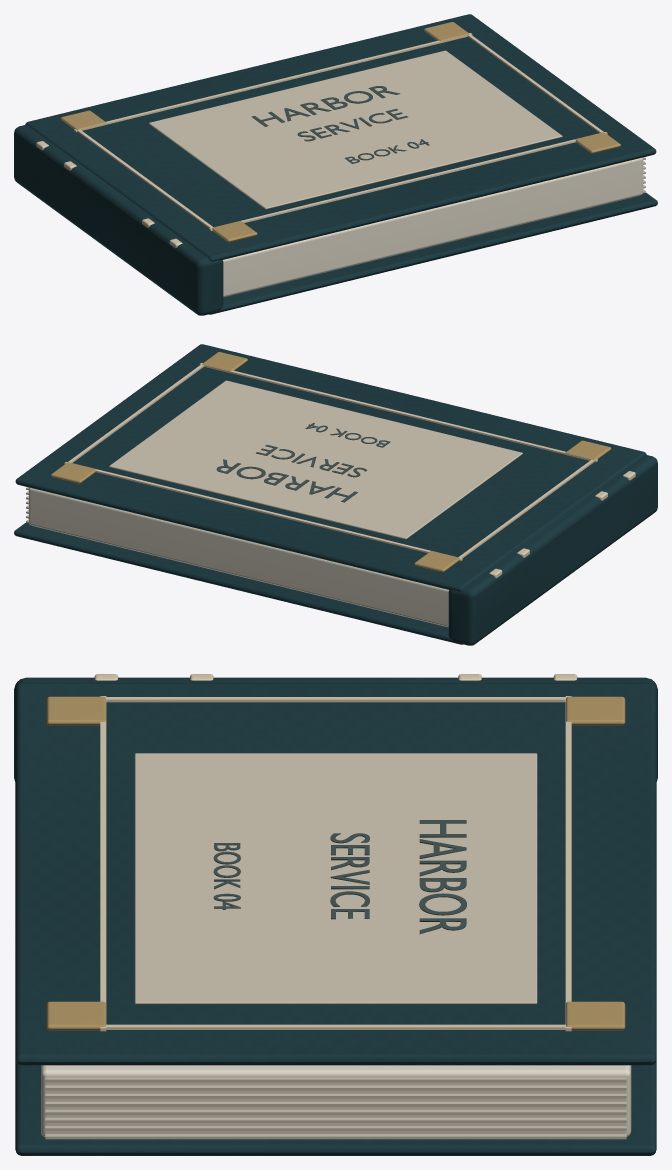
The model's file is A156_harbor_service_manual.glb.
The picture shows the model from 3 angles, top to bottom: view 1: azimuth 30°, elevation 25°; view 2: azimuth 150°, elevation 25°; view 3: azimuth 270°, elevation 25°; orthographic projection. The views are drawn at different scales.
Parts seen in each view (by area): view 1: TopCoverPivot.001 SL manual weathered teal cloth, TopCoverPivot.001 SL manual aged linen label, ManualRoot.001 SL manual weathered teal cloth, ManualRoot.001 SL manual uncoated cream paper, TopCoverPivot.001 SL manual cream binding stitch, TopCoverPivot.001 SL manual tarnished brass, TopCoverPivot.001 SL manual dark screen print; view 2: TopCoverPivot.001 SL manual weathered teal cloth, TopCoverPivot.001 SL manual aged linen label, ManualRoot.001 SL manual weathered teal cloth, ManualRoot.001 SL manual uncoated cream paper, TopCoverPivot.001 SL manual cream binding stitch, TopCoverPivot.001 SL manual tarnished brass, TopCoverPivot.001 SL manual dark screen print; view 3: TopCoverPivot.001 SL manual weathered teal cloth, TopCoverPivot.001 SL manual aged linen label, ManualRoot.001 SL manual page edge shadow, ManualRoot.001 SL manual uncoated cream paper, ManualRoot.001 SL manual weathered teal cloth, TopCoverPivot.001 SL manual cream binding stitch, TopCoverPivot.001 SL manual tarnished brass, TopCoverPivot.001 SL manual dark screen print.
Boxes of the visible parts, x1,y1,x2,y2 form: TopCoverPivot.001 SL manual weathered teal cloth: (25,14,656,261); TopCoverPivot.001 SL manual aged linen label: (149,50,562,209); ManualRoot.001 SL manual weathered teal cloth: (14,125,657,315); ManualRoot.001 SL manual uncoated cream paper: (223,157,642,297); TopCoverPivot.001 SL manual cream binding stitch: (74,33,607,231); TopCoverPivot.001 SL manual tarnished brass: (60,22,620,242); TopCoverPivot.001 SL manual dark screen print: (251,86,429,163); TopCoverPivot.001 SL manual weathered teal cloth: (15,344,646,591); TopCoverPivot.001 SL manual aged linen label: (109,380,522,539); ManualRoot.001 SL manual weathered teal cloth: (14,455,657,645); ManualRoot.001 SL manual uncoated cream paper: (29,487,448,627); TopCoverPivot.001 SL manual cream binding stitch: (64,363,597,561); TopCoverPivot.001 SL manual tarnished brass: (51,352,611,572); TopCoverPivot.001 SL manual dark screen print: (216,423,390,502); TopCoverPivot.001 SL manual weathered teal cloth: (15,683,656,1065); TopCoverPivot.001 SL manual aged linen label: (134,753,537,1004); ManualRoot.001 SL manual page edge shadow: (45,1077,626,1139); ManualRoot.001 SL manual uncoated cream paper: (41,1065,631,1136); ManualRoot.001 SL manual weathered teal cloth: (14,677,657,1155); TopCoverPivot.001 SL manual cream binding stitch: (100,696,571,1031); TopCoverPivot.001 SL manual tarnished brass: (46,696,625,1030); TopCoverPivot.001 SL manual dark screen print: (213,820,466,933).
Bounding box in the file's own units: 0.307 × 0.04 × 0.216.
7 materials, 1 textured.
